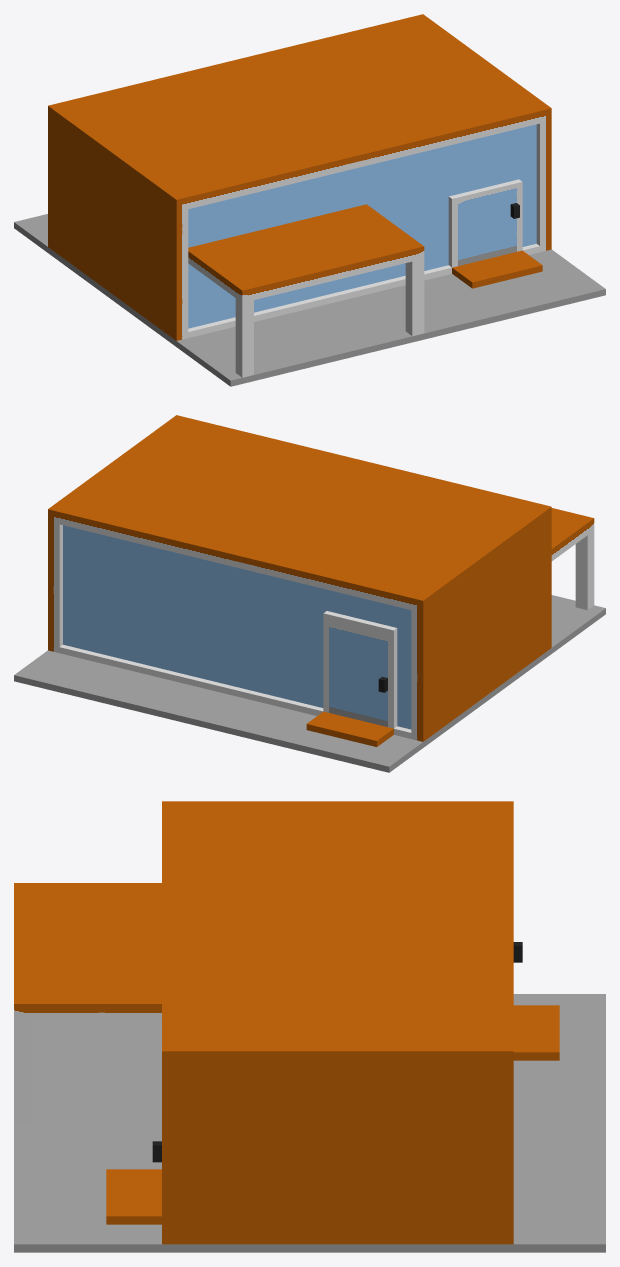
The model's file is obj_house2b.fbx.
The picture shows the model from 3 angles, top to bottom: view 1: azimuth 30°, elevation 25°; view 2: azimuth 150°, elevation 25°; view 3: azimuth 270°, elevation 25°; orthographic projection. The views are drawn at different scales.
Visible parts, largest first — view 1: obj_house2b; view 2: obj_house2b; view 3: obj_house2b.
Boxes of the visible parts, x1,y1,x2,y2 form: obj_house2b: (14,14,605,386); obj_house2b: (14,415,605,772); obj_house2b: (14,801,605,1252).
Size of the model in its own units: 252 by 94.49 by 252.
